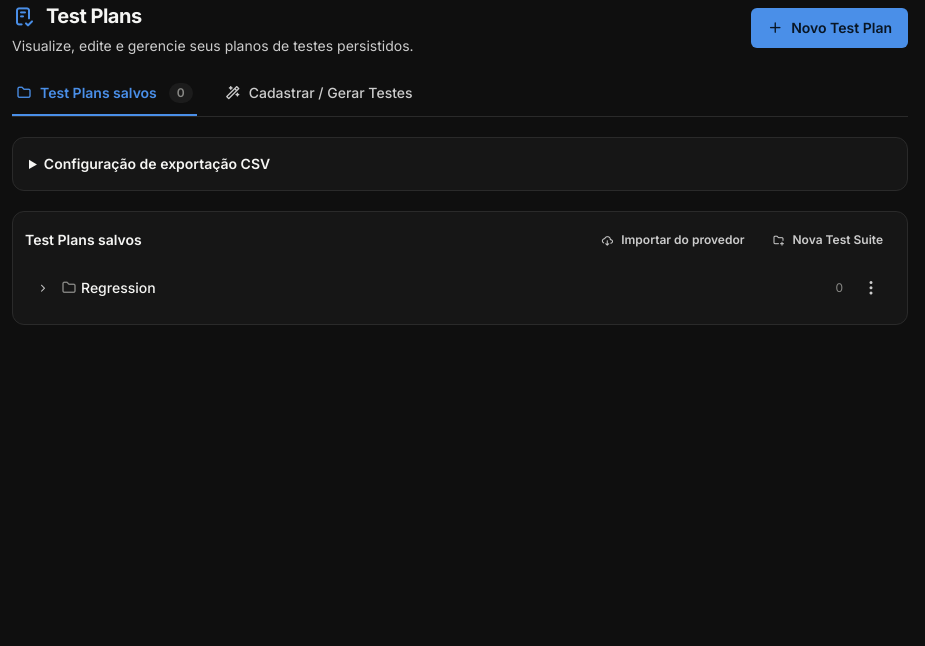
Test: TestPlansView agents and creation shortcuts › starts a plan inside the suite picked from the tree
The width and height of the screenshot is (925, 646).
Expected: the element with test id "test-suite-tree" is shown, [12, 211, 908, 325]
Click the button named "Ações: Regression" at point(871, 288), box [851, 268, 891, 308]
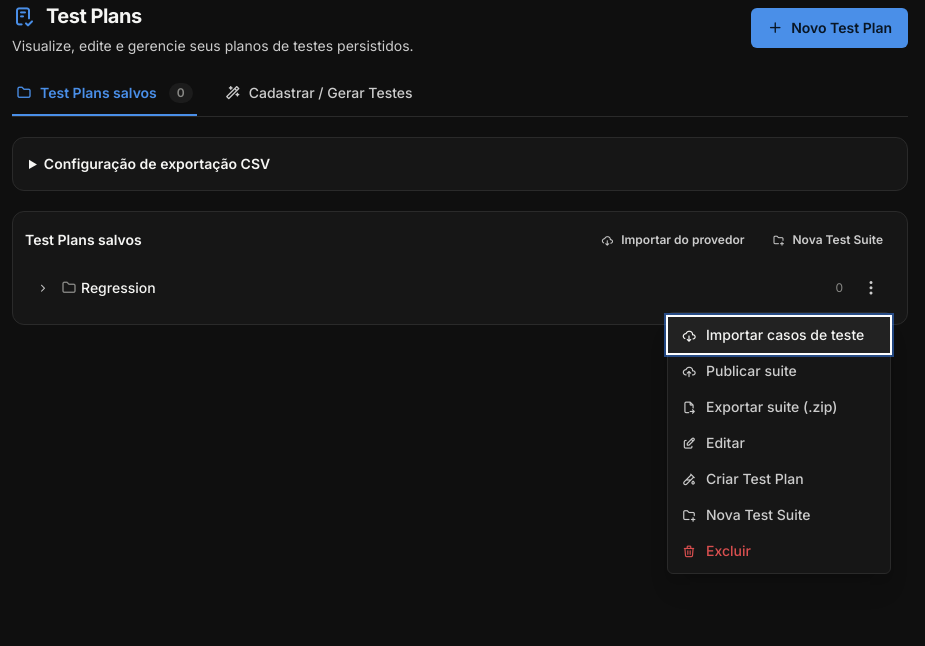
Click the button "Criar Test Plan" at point(779, 479), box [668, 461, 890, 497]
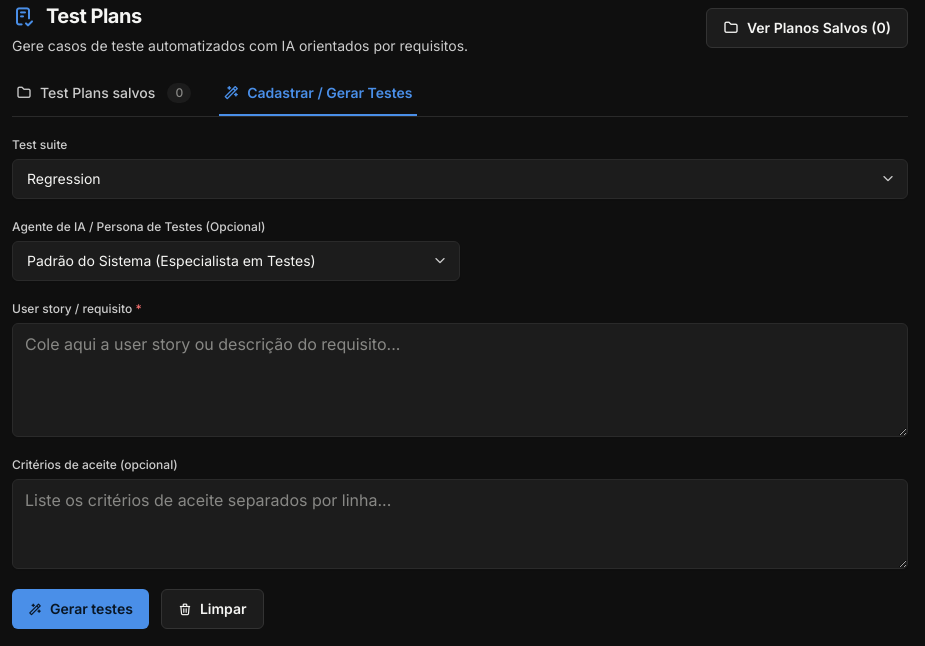
Now the element with test id "panel-create-plan" is shown
Now the dropdown labelled "Test suite" shows "Regression", box [12, 159, 908, 199]
